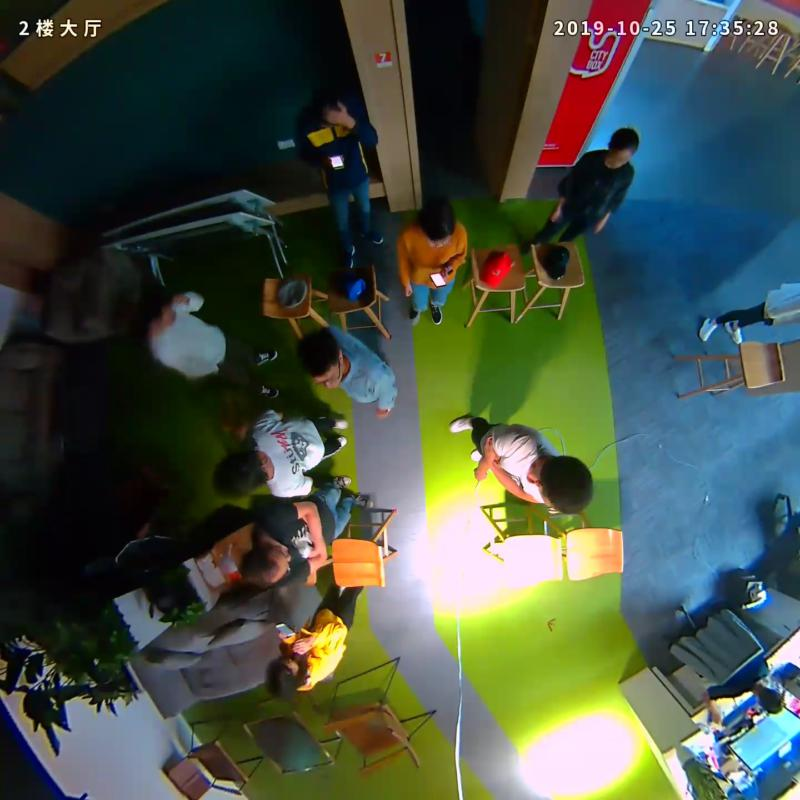head: (536, 454, 593, 516), (212, 451, 273, 496), (299, 330, 343, 391), (240, 542, 291, 587), (419, 194, 457, 247), (264, 653, 308, 694), (606, 126, 640, 170), (139, 292, 177, 330), (315, 86, 348, 124)
